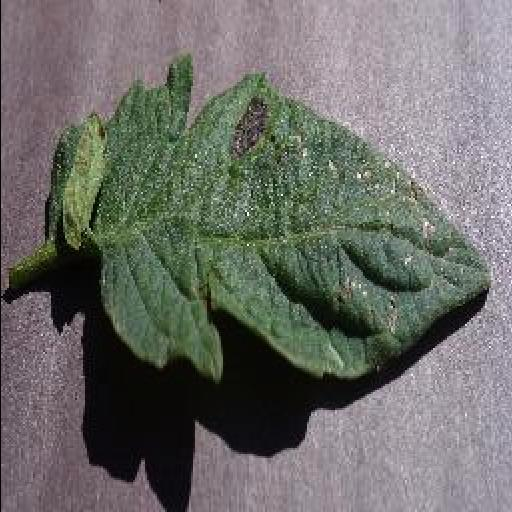disease_tomato: (48, 59, 490, 384)
